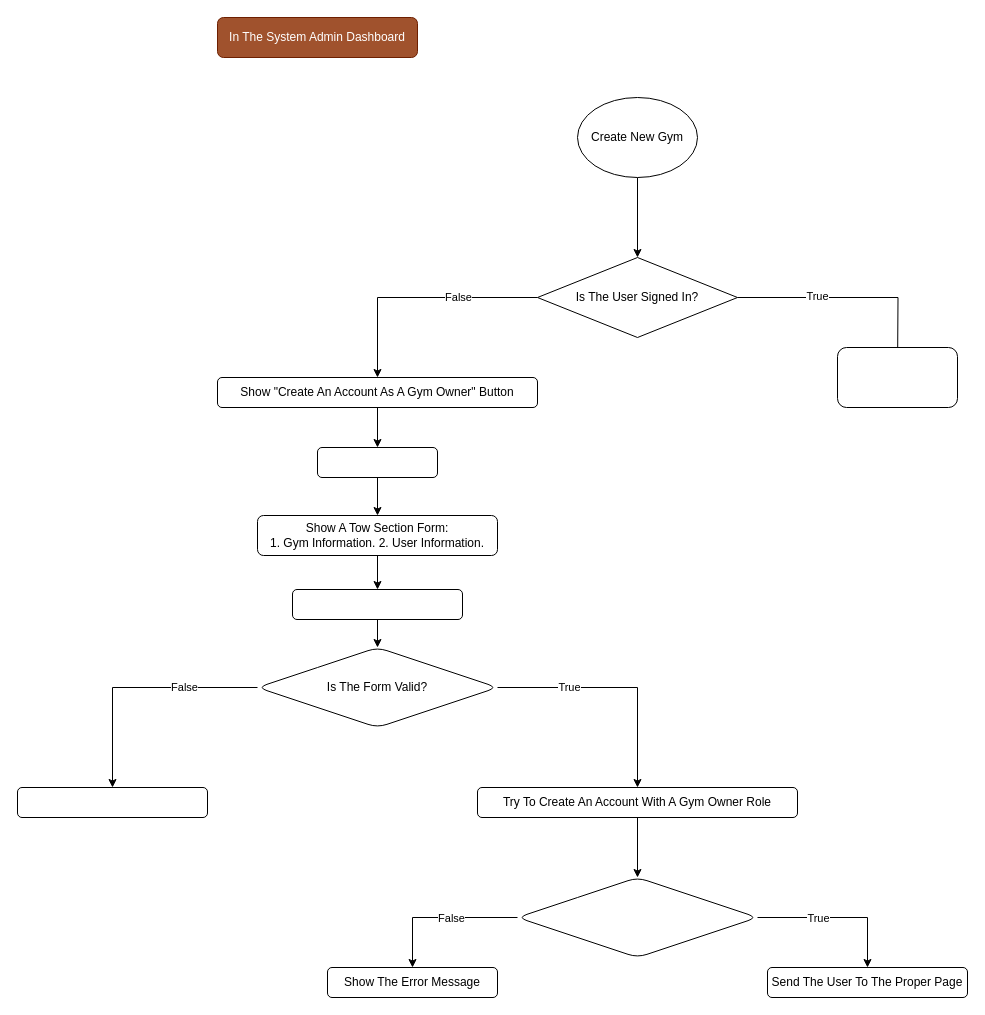
Image size: 985x1015. Some labels were removed from this diagram. Here are the shapes that lost their labels. From the top down, the centre of each, then its label:
point 897,377: Vague
point 377,462: The Button Pressed
point 377,604: The Submit Button Pressed
point 112,802: Show Validation Error Message
point 637,917: Is The Creation Successfuly done
